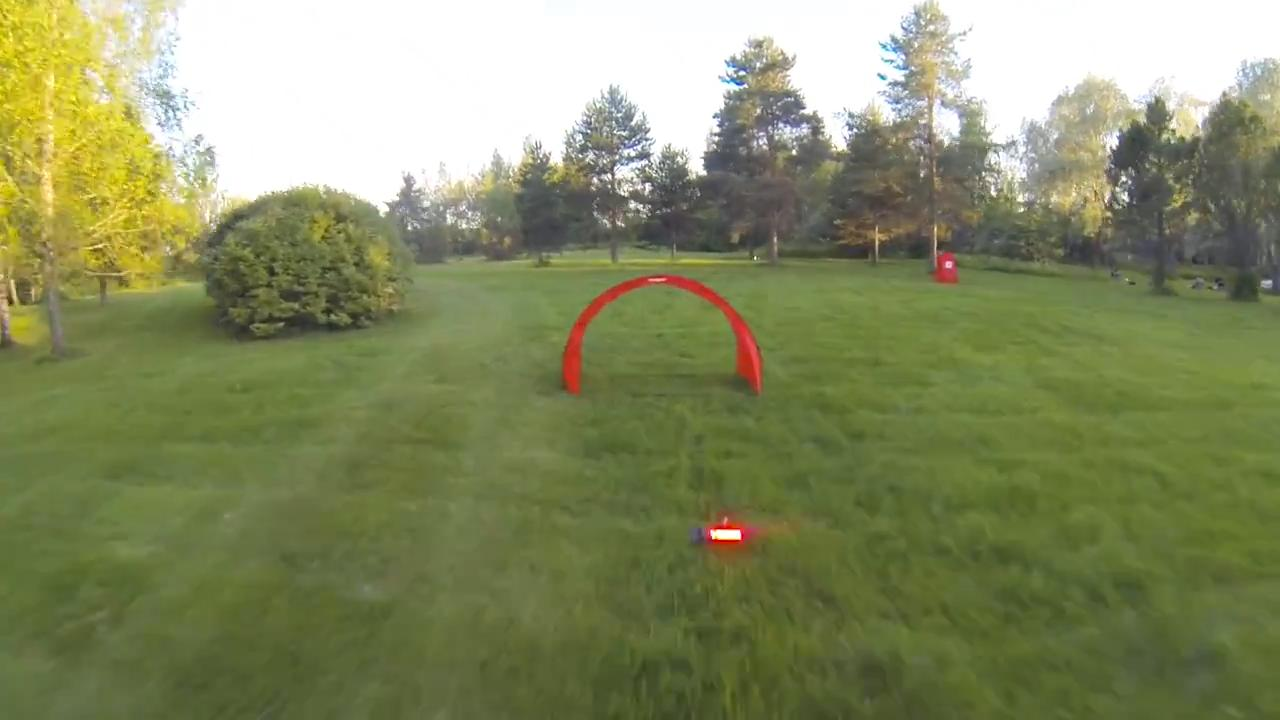gate: (557, 272, 769, 397)
